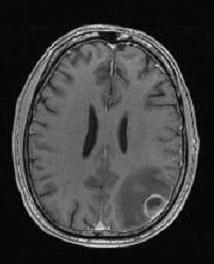Normal_Brain: (1, 8, 213, 264)
